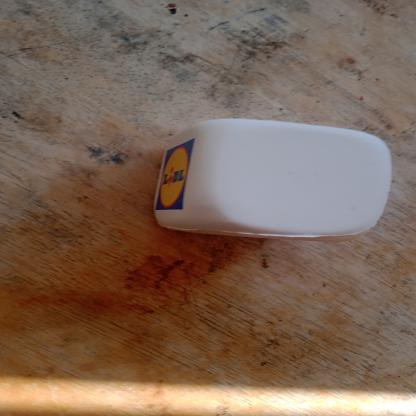Cube: (145, 116, 398, 243)
